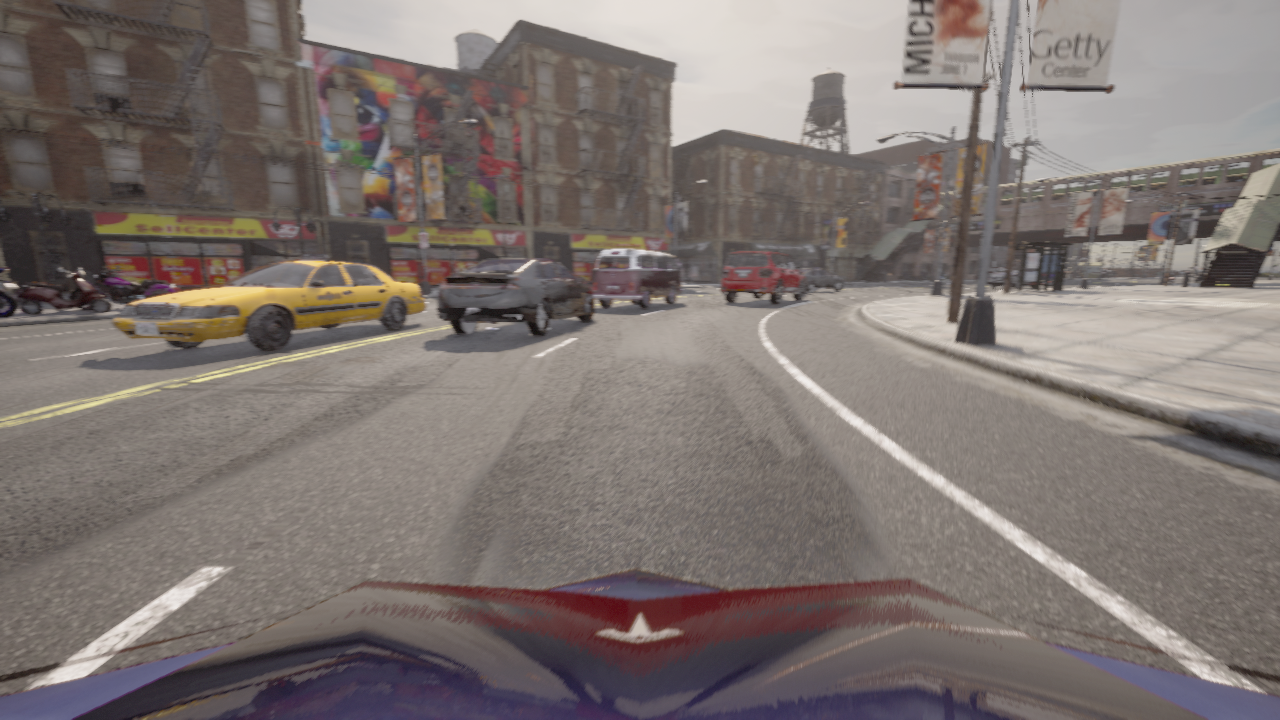cyclist: (0, 569, 1279, 719), (112, 253, 425, 351), (437, 258, 595, 336), (593, 248, 681, 308), (69, 266, 179, 311), (720, 251, 806, 304), (17, 267, 111, 314), (798, 269, 843, 293), (0, 268, 18, 318), (987, 271, 1032, 288), (975, 267, 1006, 281), (1163, 271, 1174, 284), (1101, 270, 1116, 277), (1195, 272, 1201, 282)
